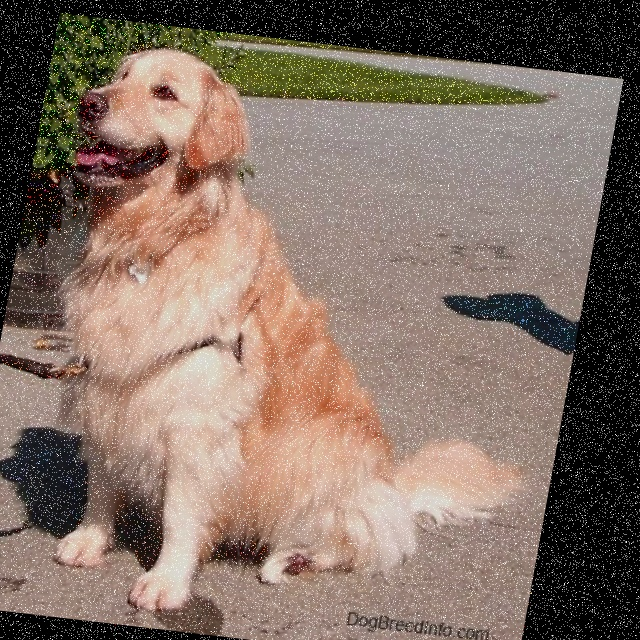dog: (0, 40, 578, 625)
